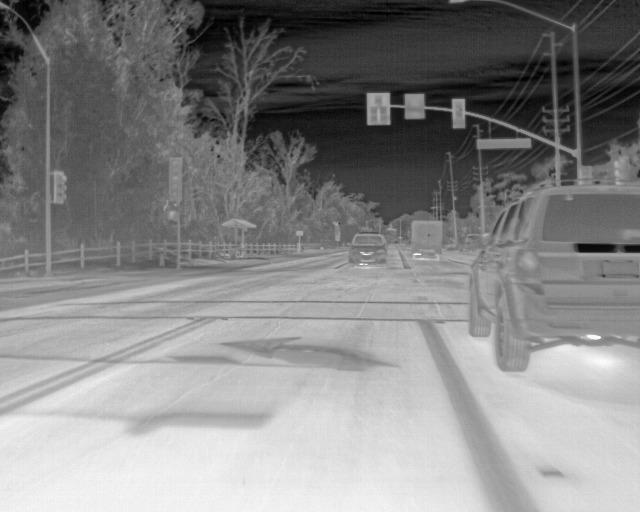car: (472, 179, 639, 373), (348, 232, 388, 267), (410, 220, 442, 260)
light: (170, 158, 180, 199), (615, 159, 629, 184), (57, 173, 67, 201), (455, 101, 462, 126), (370, 106, 377, 122), (380, 106, 386, 122), (374, 96, 382, 106), (168, 211, 176, 220)
sign: (477, 139, 531, 149), (405, 94, 424, 119), (335, 225, 340, 235), (335, 235, 341, 242), (297, 231, 304, 236)
